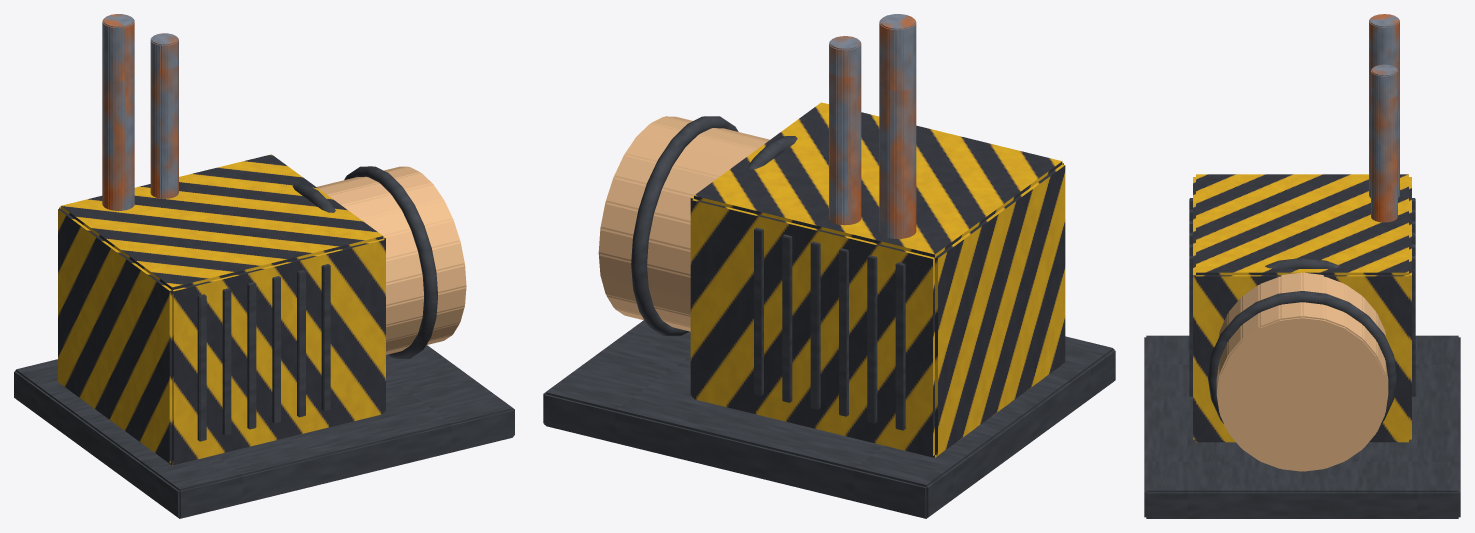
Rendered from fac_generator.glb.
3 views of the same model, side by side, from view 1: azimuth 30°, elevation 25°; view 2: azimuth 150°, elevation 25°; view 3: azimuth 270°, elevation 25° (orthographic). The views are drawn at different scales.
Parts seen in each view (by area): view 1: fac_generator; view 2: fac_generator; view 3: fac_generator.
Boxes of the visible parts, x1,y1,x2,y2 form: fac_generator: (14,14,514,518); fac_generator: (543,14,1115,518); fac_generator: (1144,14,1460,518).
Size of the model in its own units: 1.9 by 2.11 by 1.62.
Materials: 5 (3 with a texture image).
